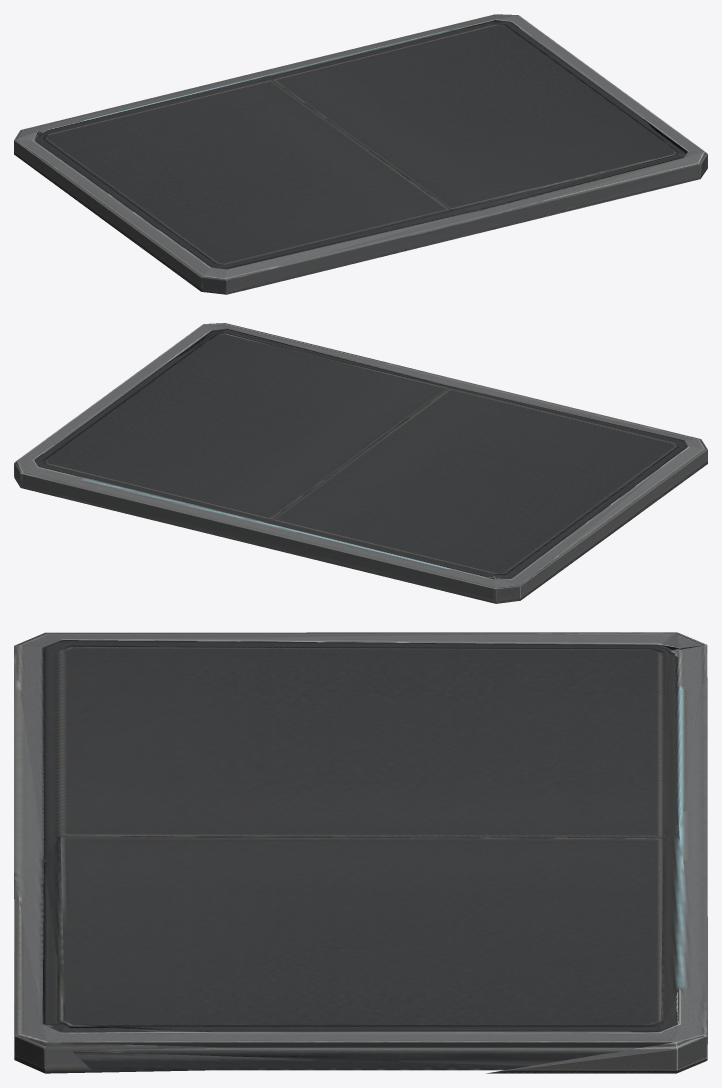
The model's file is armor_flat.glb.
3 renders of one model, top to bottom at view 1: azimuth 30°, elevation 25°; view 2: azimuth 150°, elevation 25°; view 3: azimuth 270°, elevation 25°, orthographic. The views are drawn at different scales.
Parts seen in each view (by area): view 1: output_unwrapped; view 2: output_unwrapped; view 3: output_unwrapped.
Boxes of the visible parts, box(x1,y1,x2,y2) form: output_unwrapped: box(14, 14, 707, 294); output_unwrapped: box(14, 323, 707, 603); output_unwrapped: box(14, 632, 707, 1073).
Size of the model in its own units: 1.9 by 0.0626 by 1.34.
Materials: 1 (1 with a texture image).
